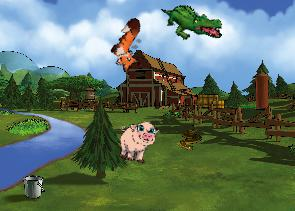crocodile: (161, 2, 223, 42)
fox: (102, 15, 159, 77)
pig: (114, 117, 160, 166)
